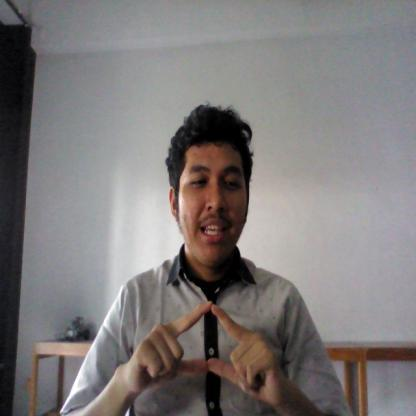A: (124, 302, 286, 406)
